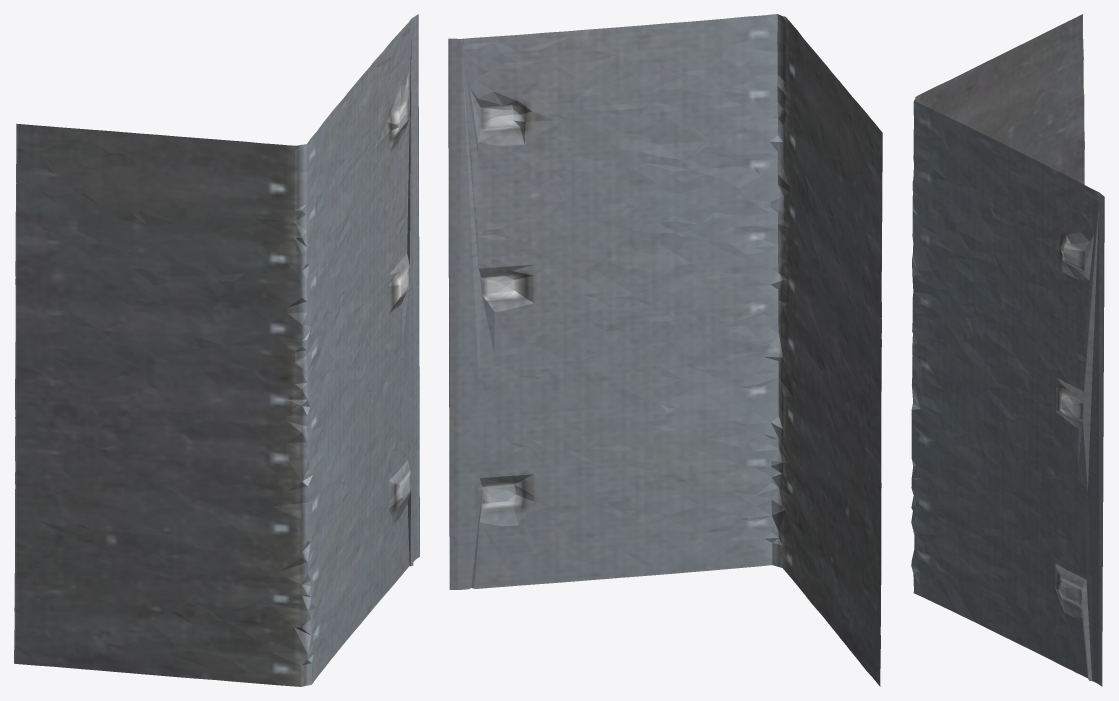
File: map_70_100.obj
3 views of the same model, side by side, from view 1: azimuth 30°, elevation 25°; view 2: azimuth 150°, elevation 25°; view 3: azimuth 270°, elevation 25° (orthographic). The views are drawn at different scales.
Parts seen in each view (by area): view 1: grp1; view 2: grp1; view 3: grp1.
Part boxes in pixels (x1,y1,x2,y2): grp1: [14, 14, 419, 686]; grp1: [448, 14, 882, 686]; grp1: [911, 14, 1104, 686].
Bounding box in the file's own units: 8 × 10 × 3.58.
1 material, 1 textured.
